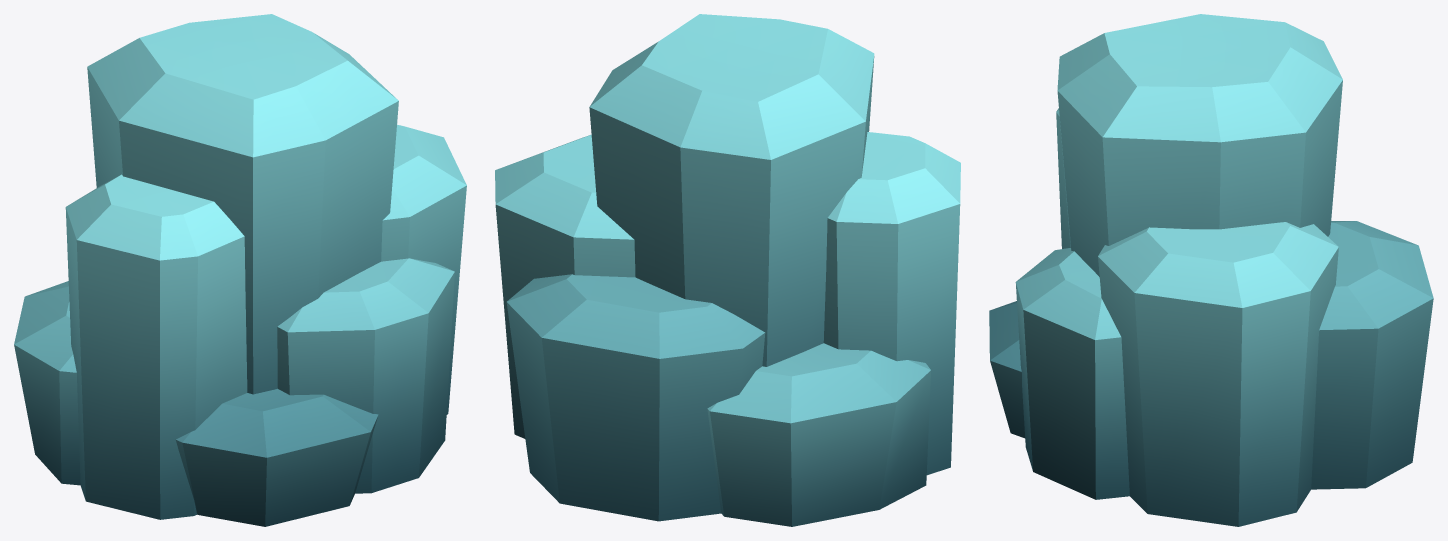
File: crystal_2.fbx
3 renders of one model, left to right at view 1: azimuth 30°, elevation 25°; view 2: azimuth 150°, elevation 25°; view 3: azimuth 270°, elevation 25°, orthographic. The views are drawn at different scales.
Parts seen in each view (by area): view 1: crystal_2; view 2: crystal_2; view 3: crystal_2.
Boxes of the visible parts, left/top/right/bottom form: crystal_2: left=14, top=14, right=466, bottom=526; crystal_2: left=495, top=14, right=960, bottom=526; crystal_2: left=989, top=14, right=1433, bottom=526.
Size of the model in its own units: 1.32 by 1.17 by 1.25.
